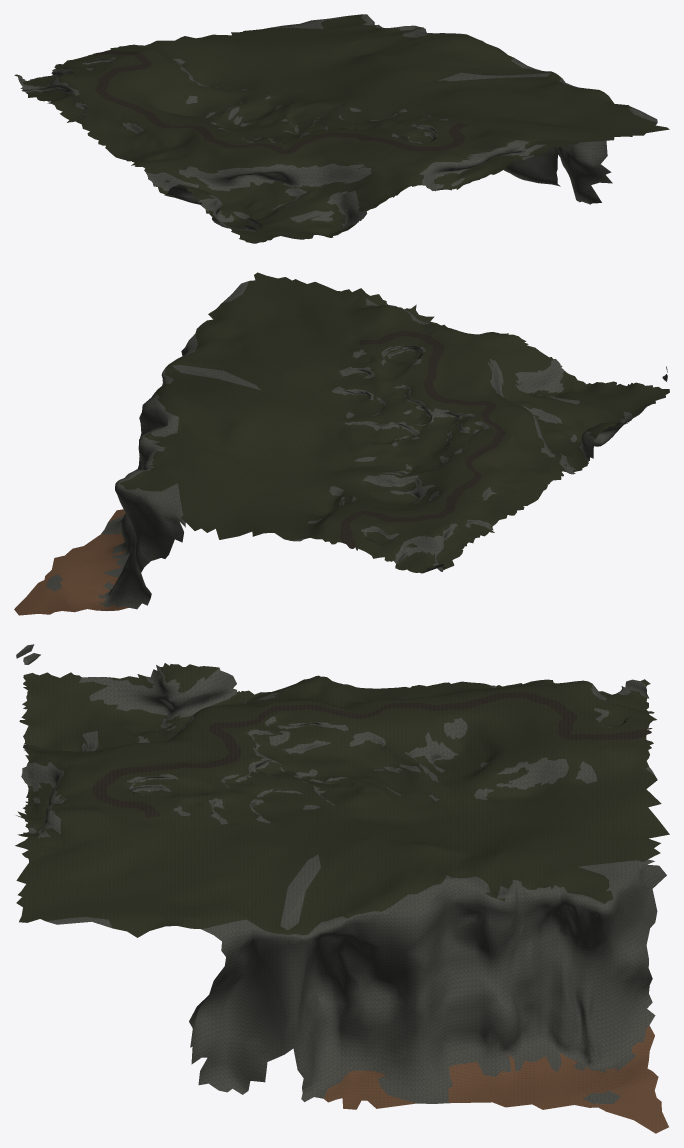
Rendered from G3_Myrtana_Landscape_Cell_178.obj.
The picture shows the model from 3 angles, top to bottom: view 1: azimuth 30°, elevation 25°; view 2: azimuth 150°, elevation 25°; view 3: azimuth 270°, elevation 25°; orthographic projection. The views are drawn at different scales.
Visible parts, largest first — view 1: G3_Myrtana_Landscape_Cell_178_0, G3_Myrtana_Landscape_Cell_178_3, G3_Myrtana_Landscape_Cell_178_4, G3_Myrtana_Landscape_Cell_178_2, G3_Myrtana_Landscape_Cell_178_1; view 2: G3_Myrtana_Landscape_Cell_178_0, G3_Myrtana_Landscape_Cell_178_3, G3_Myrtana_Landscape_Cell_178_4, G3_Myrtana_Landscape_Cell_178_6, G3_Myrtana_Landscape_Cell_178_2, G3_Myrtana_Landscape_Cell_178_1, G3_Myrtana_Landscape_Cell_178_5; view 3: G3_Myrtana_Landscape_Cell_178_0, G3_Myrtana_Landscape_Cell_178_3, G3_Myrtana_Landscape_Cell_178_4, G3_Myrtana_Landscape_Cell_178_6, G3_Myrtana_Landscape_Cell_178_5, G3_Myrtana_Landscape_Cell_178_2, G3_Myrtana_Landscape_Cell_178_1.
Boxes of the visible parts, x1,y1,x2,y2 form: G3_Myrtana_Landscape_Cell_178_0: (14,14,669,243); G3_Myrtana_Landscape_Cell_178_3: (19,14,612,231); G3_Myrtana_Landscape_Cell_178_4: (18,14,657,230); G3_Myrtana_Landscape_Cell_178_2: (92,51,466,153); G3_Myrtana_Landscape_Cell_178_1: (88,50,467,153); G3_Myrtana_Landscape_Cell_178_0: (120,272,669,573); G3_Myrtana_Landscape_Cell_178_3: (106,317,667,605); G3_Myrtana_Landscape_Cell_178_4: (116,281,665,573); G3_Myrtana_Landscape_Cell_178_6: (14,509,128,615); G3_Myrtana_Landscape_Cell_178_2: (342,332,503,548); G3_Myrtana_Landscape_Cell_178_1: (340,331,506,550); G3_Myrtana_Landscape_Cell_178_5: (46,515,141,609); G3_Myrtana_Landscape_Cell_178_0: (15,663,669,937); G3_Myrtana_Landscape_Cell_178_3: (16,644,666,1098); G3_Myrtana_Landscape_Cell_178_4: (21,660,654,936); G3_Myrtana_Landscape_Cell_178_6: (323,1025,668,1133); G3_Myrtana_Landscape_Cell_178_5: (301,1009,655,1103); G3_Myrtana_Landscape_Cell_178_2: (96,693,651,817); G3_Myrtana_Landscape_Cell_178_1: (92,692,652,817).
Bounding box in the file's own units: 161 × 61.84 × 162.
7 materials, 7 textured.
